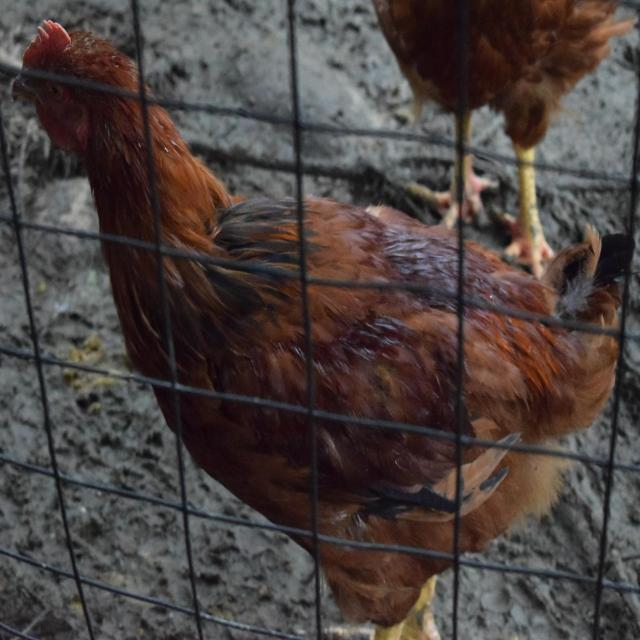cook: (12, 22, 632, 638)
